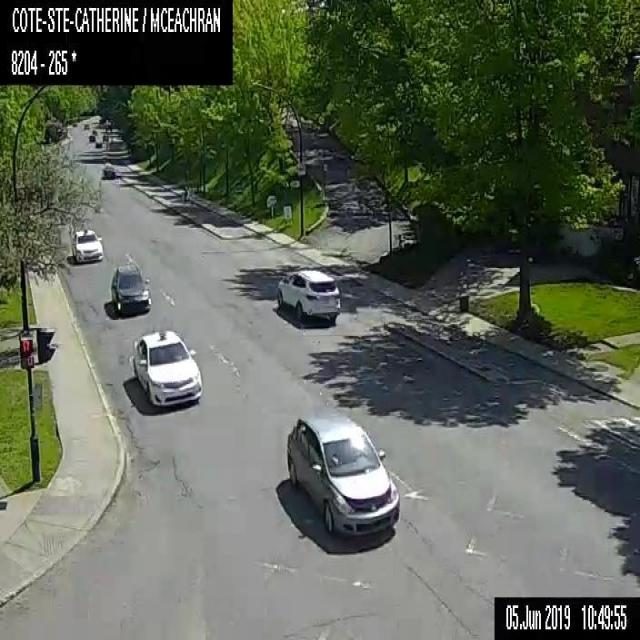vehicle: (285, 408, 400, 535), (131, 326, 203, 406), (274, 268, 341, 321), (109, 263, 152, 313), (70, 228, 103, 263), (101, 164, 115, 177), (94, 138, 102, 147), (88, 133, 95, 141), (92, 128, 96, 134), (84, 123, 88, 128)
